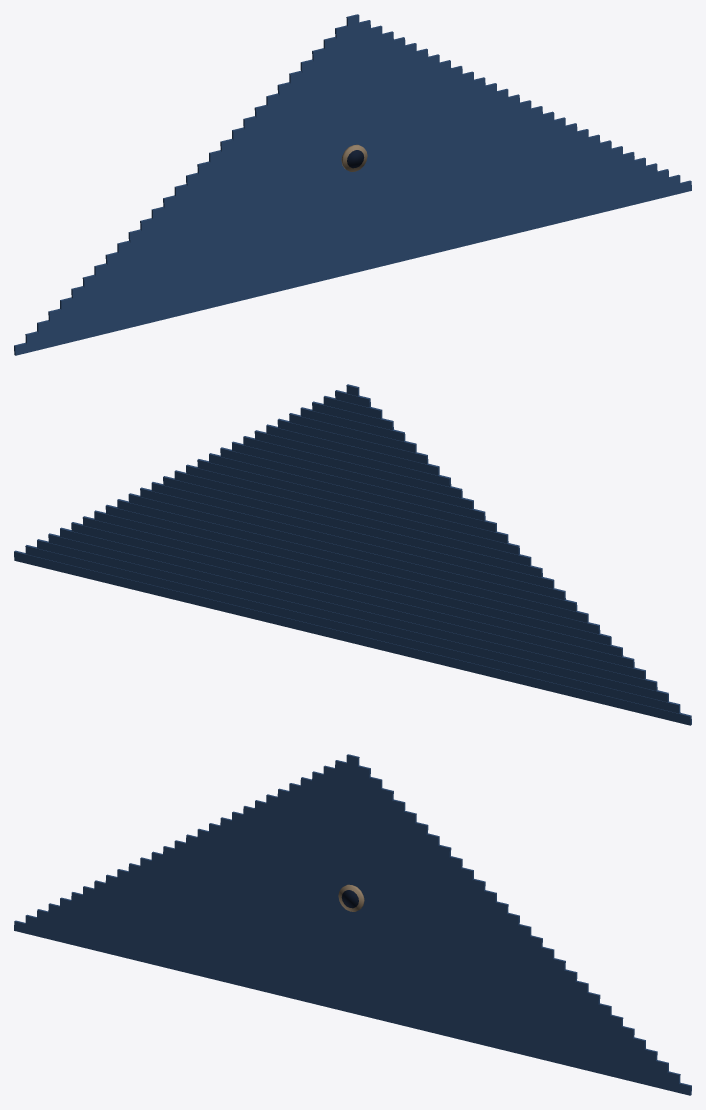
The model's file is kit_clapboard_gable_w9.glb.
3 renders of one model, top to bottom at view 1: azimuth 30°, elevation 25°; view 2: azimuth 150°, elevation 25°; view 3: azimuth 330°, elevation 25°, orthographic.
Parts seen in each view (by area): view 1: kit_clapboard_gable_w9; view 2: kit_clapboard_gable_w9; view 3: kit_clapboard_gable_w9.
Part boxes in pixels (x1,y1,x2,y2): kit_clapboard_gable_w9: (14, 14, 691, 355); kit_clapboard_gable_w9: (14, 384, 691, 725); kit_clapboard_gable_w9: (14, 754, 691, 1095).
Bounding box in the file's own units: 8.85 × 3.21 × 0.082.
